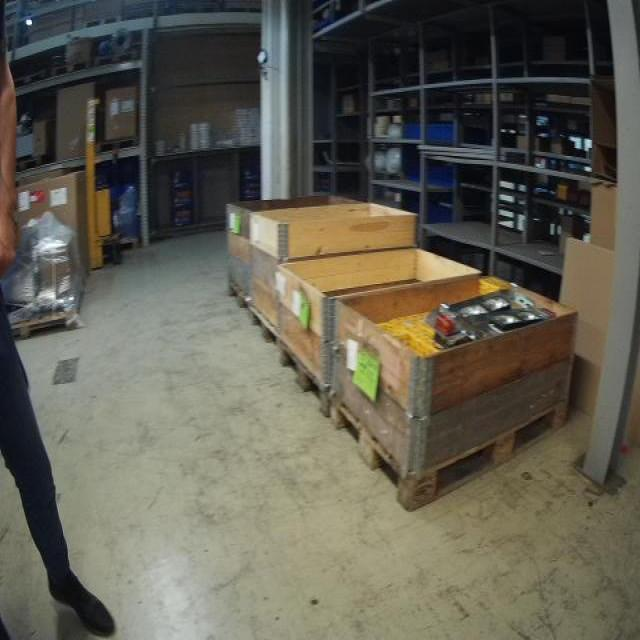pallet: (330, 401, 567, 514), (282, 341, 330, 418), (10, 307, 81, 342), (252, 305, 282, 366), (226, 275, 252, 325), (93, 48, 140, 69), (95, 134, 140, 154), (52, 59, 90, 79), (14, 67, 48, 89), (14, 155, 44, 174)
